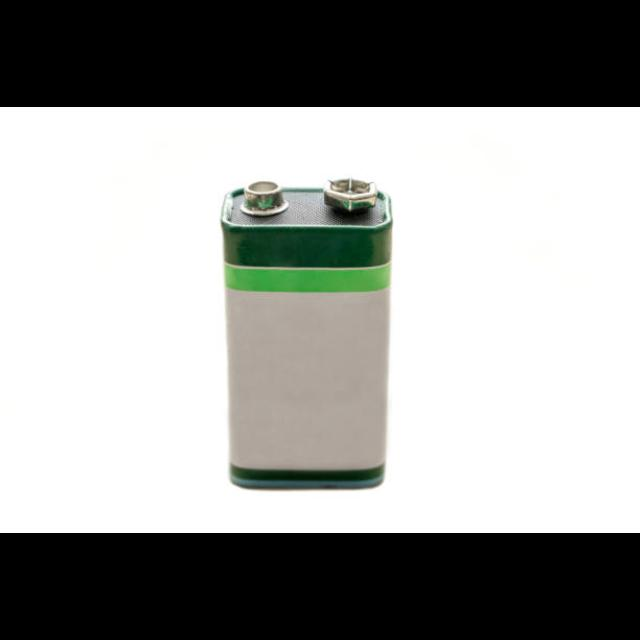Battery: (221, 179, 395, 492)
